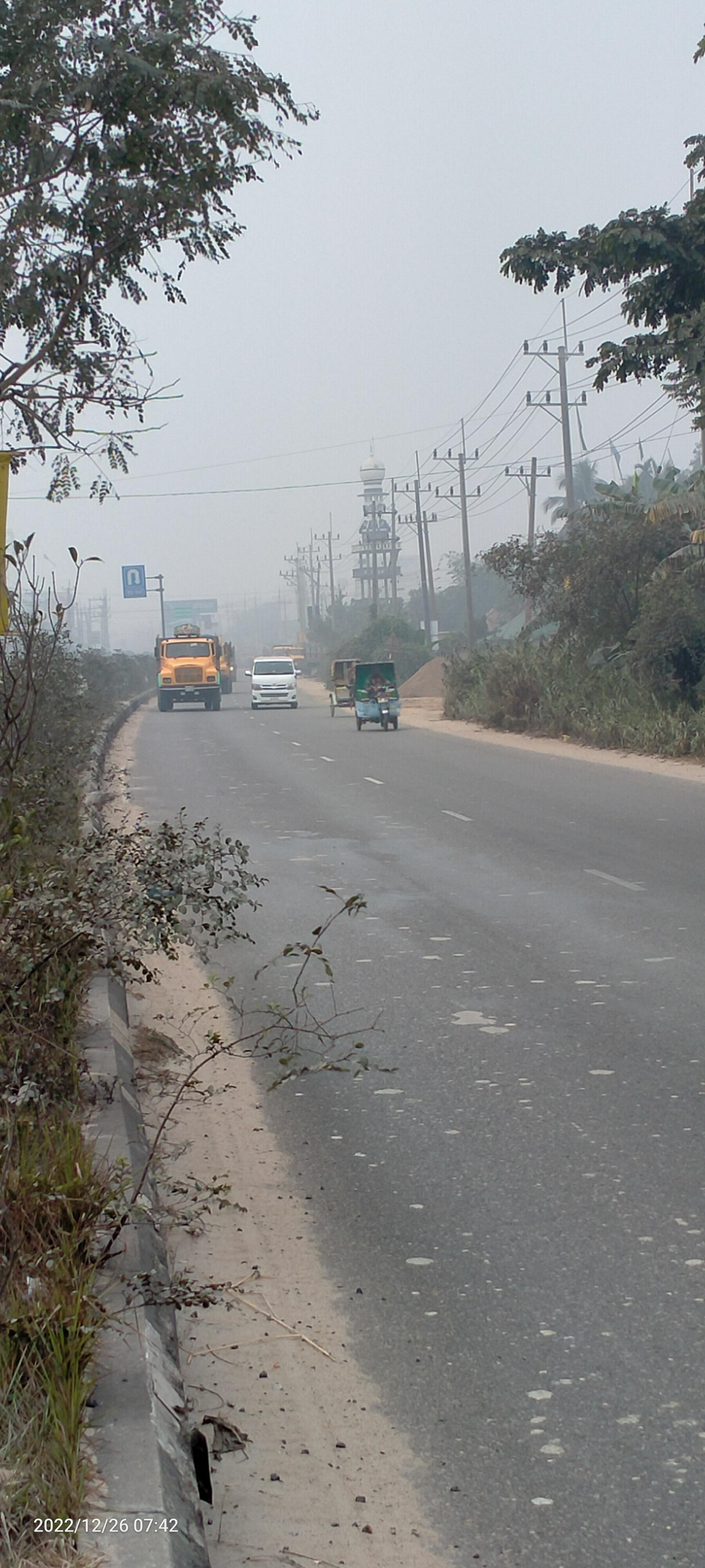Car: (350, 659, 412, 734), (245, 653, 305, 713), (322, 651, 360, 719)
Truck: (150, 621, 226, 714)
